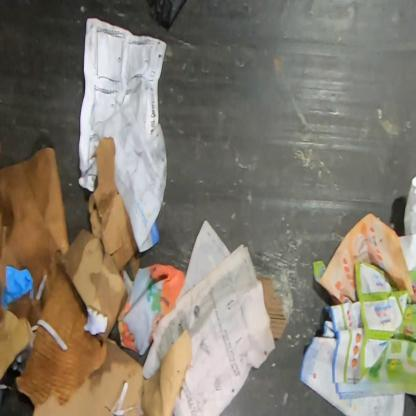cardboard: (32, 327, 193, 416), (15, 260, 107, 407), (0, 145, 71, 328), (59, 228, 129, 342), (88, 136, 141, 279), (0, 307, 33, 384), (256, 276, 288, 341)
